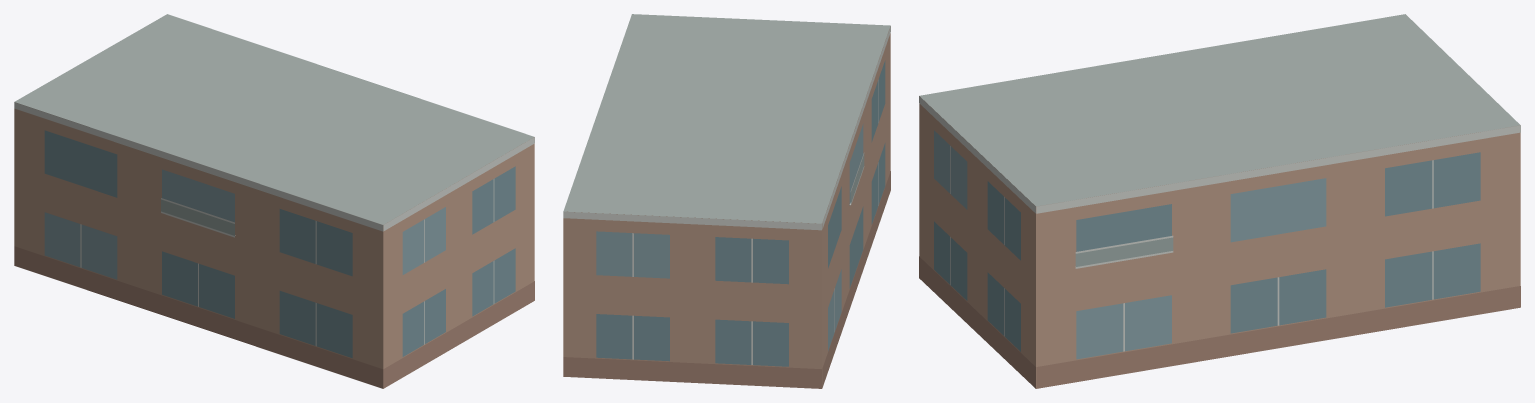
Rendered from survey-upis-32851564.glb.
The picture shows the model from 3 angles, left to right: view 1: azimuth 30°, elevation 25°; view 2: azimuth 150°, elevation 25°; view 3: azimuth 270°, elevation 25°; orthographic projection. The views are drawn at different scales.
Parts seen in each view (by area): view 1: survey-upis-32851564.tmp; view 2: survey-upis-32851564.tmp; view 3: survey-upis-32851564.tmp.
Boxes of the visible parts, x1,y1,x2,y2 form: survey-upis-32851564.tmp: (14, 14, 534, 388); survey-upis-32851564.tmp: (563, 14, 890, 388); survey-upis-32851564.tmp: (919, 14, 1520, 388).
Size of the model in its own units: 13.83 by 6.1 by 18.25.
